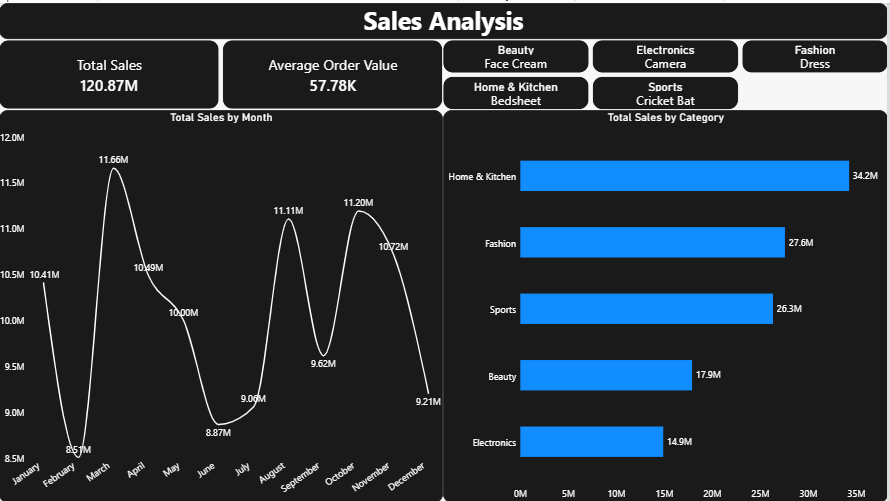

The dashboard page shown, as its layout file describes it:
{"tool":"powerbi","page":{"name":"Sales Analysis","canvas":[1920,1080],"ordinal":1},"visuals":[{"type":"textbox","box":[0,0,1920.2,77.8],"z":0},{"type":"lineChart","fields":{"Category":["Calendar.Date.Variation.Date Hierarchy.Month"],"Y":["Calendar.Total Sales"]},"box":[0,231.1,959,848.9],"z":1000},{"type":"barChart","fields":{"Category":["Products.Category"],"Y":["Calendar.Total Sales"]},"box":[959,231.1,961.2,848.9],"z":2000},{"type":"cardVisual","fields":{"Data":["Calendar.Total Sales","Calendar.Average Order Value"]},"box":[0,79.9,959,149],"z":3000},{"type":"advancedSlicerVisual","fields":{"Values":["Products.Category"],"Label":["Min(Products.Subcategory)"]},"box":[959,79.9,961.2,151.2],"z":5000}]}

Visuals, with their boxes in screenshot pixels (x1, y1, x2, y2), scaled from the page's 1920x1080 canvas onto the 890x501 screenshot:
textbox: {"x1": 0, "y1": 0, "x2": 889, "y2": 36}
lineChart - Calendar.Date.Variation.Date Hierarchy.Month x Calendar.Total Sales: {"x1": 0, "y1": 107, "x2": 445, "y2": 500}
barChart - Products.Category x Calendar.Total Sales: {"x1": 445, "y1": 107, "x2": 889, "y2": 500}
cardVisual - Calendar.Total Sales x Calendar.Average Order Value: {"x1": 0, "y1": 37, "x2": 445, "y2": 106}
advancedSlicerVisual - Products.Category x Min(Products.Subcategory): {"x1": 445, "y1": 37, "x2": 889, "y2": 107}
